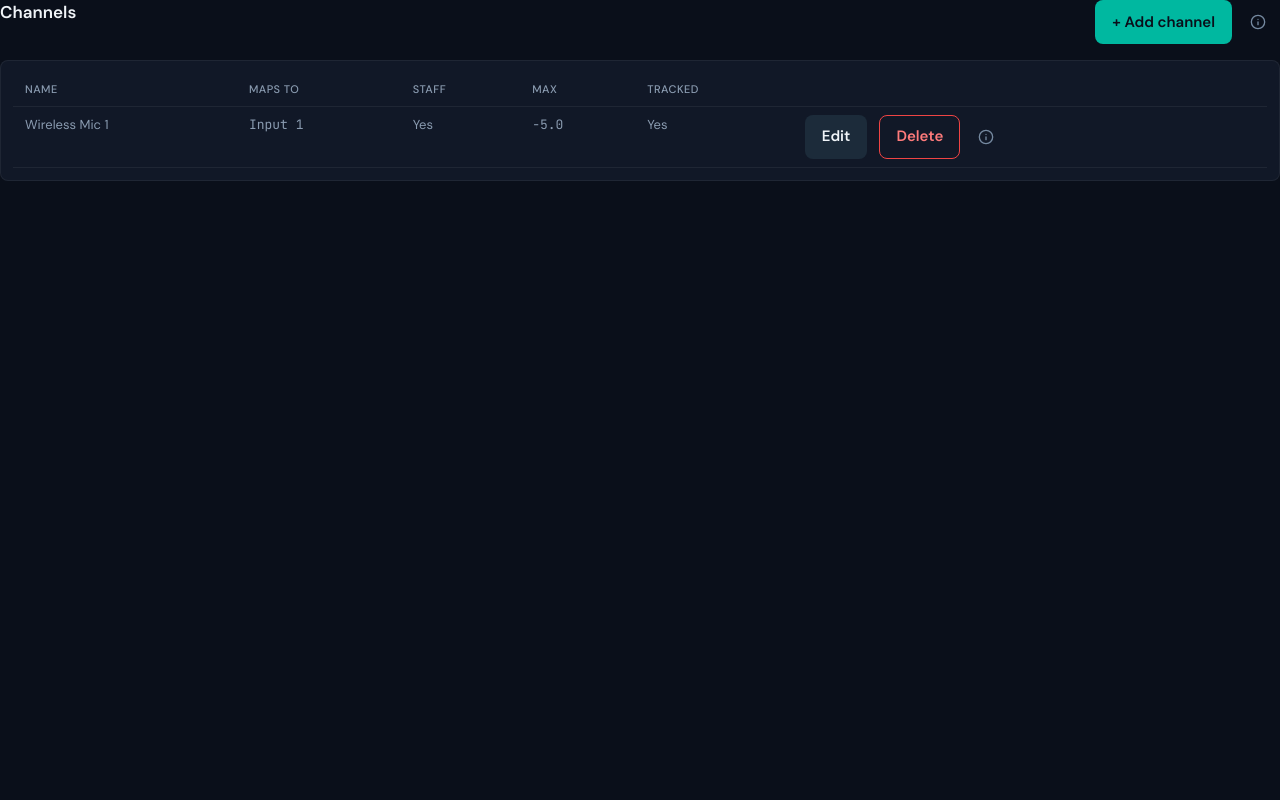
Test: ChannelsSection › offers the conflict dialog on a concurrent edit
What coordinates should you click on to do the following:
click the button "Edit"
I would click on:
 (836, 136)
Its box is [805, 114, 867, 158].
(page scrolled)
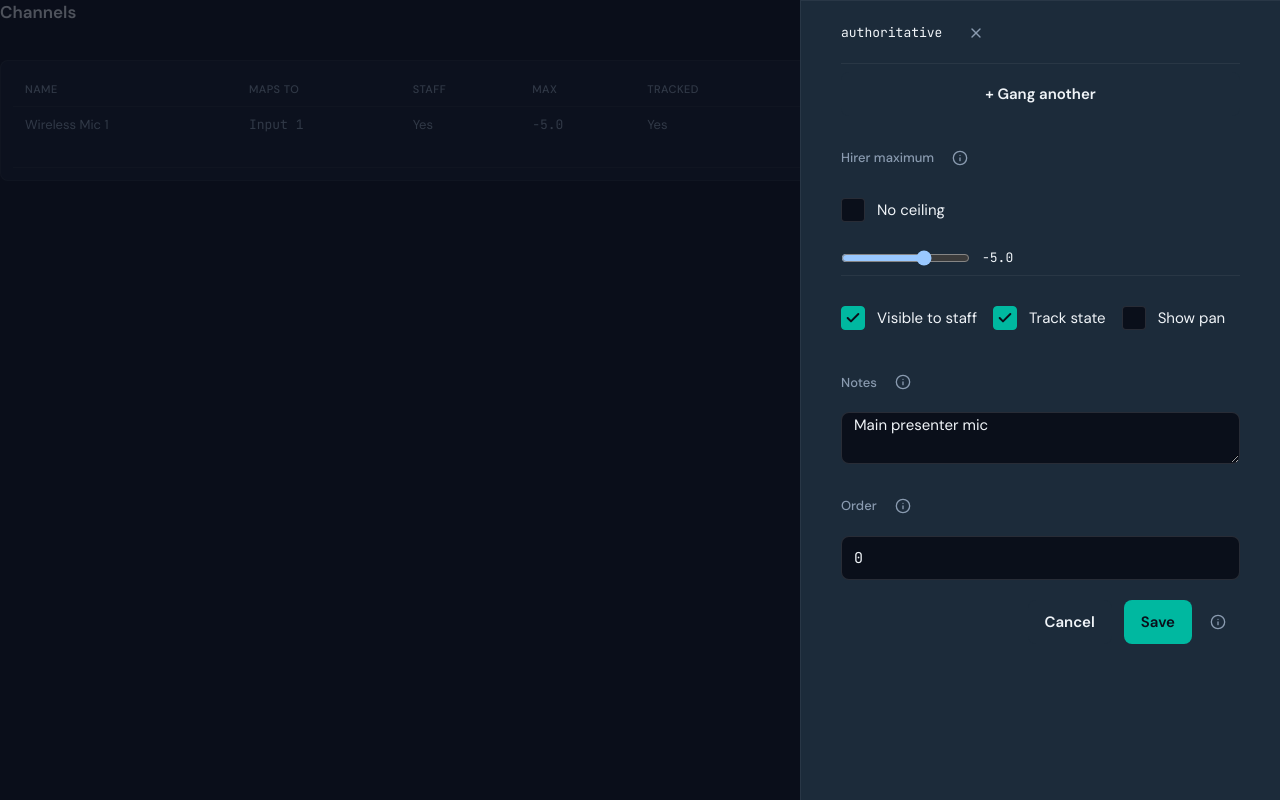
What coordinates should you click on to do the following:
click the button "Save"
I would click on:
 (1158, 622)
Its box is [1124, 600, 1192, 644].
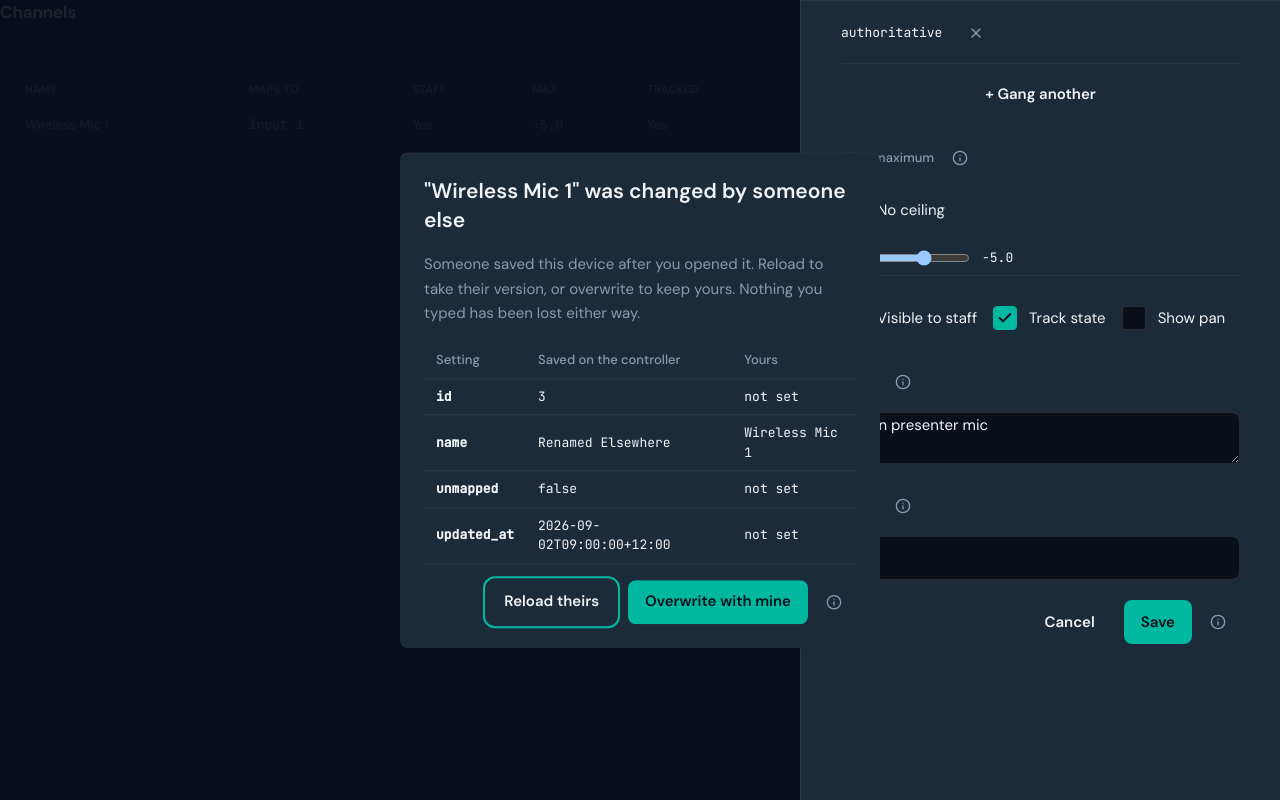
Result: the heading "\"Wireless Mic 1\" was changed by someone else" is shown at [424, 177, 856, 236]
